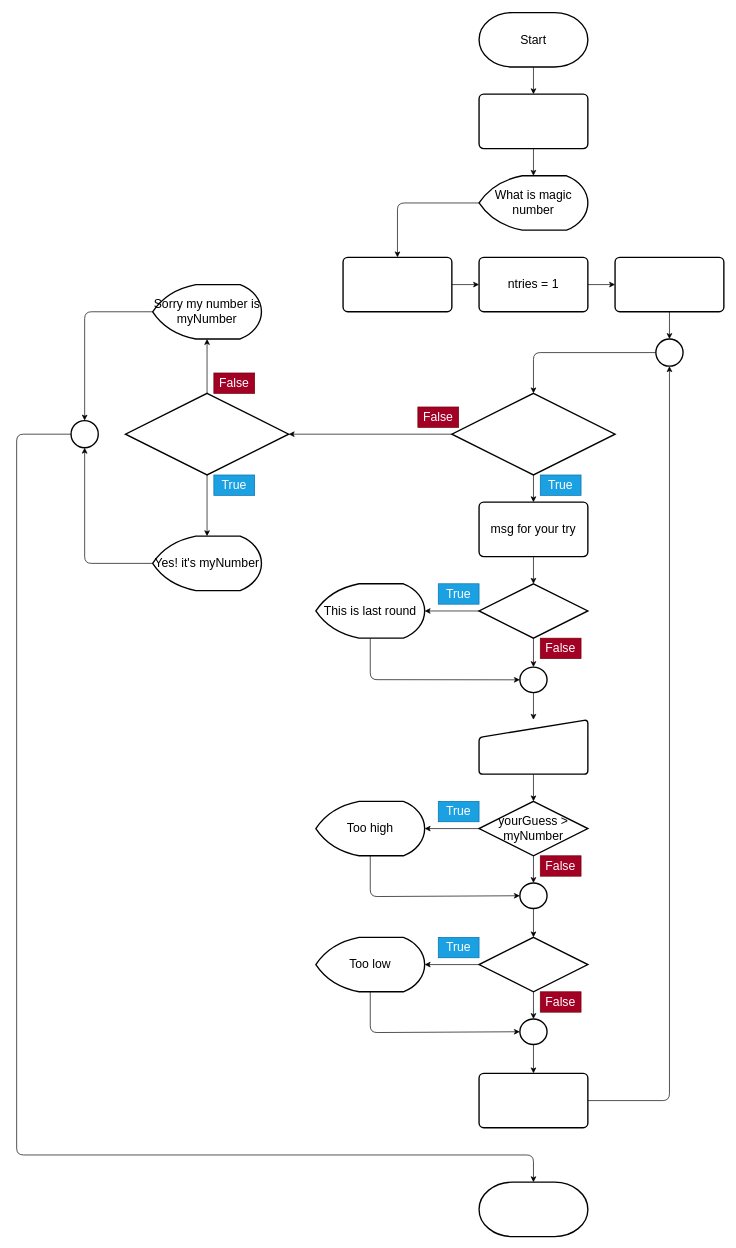
This 736x1248 diagram has some shape labels left out. The centre of each missing label's shape, as x and y in pixels:
"End" goes at point 533,1209.
"import random" goes at point 533,121.
"myNumber = random.randint (1, 100)" goes at point 397,284.
"ntries += 1" goes at point 533,1100.
"ntries < 7 and yourGuess != myNumber" goes at point 533,433.
"ntries == 6" goes at point 533,611.
"yourGuess" goes at point 533,747.
"yourGuess < myNumber" goes at point 533,964.
"yourGuess = -1" goes at point 669,284.
"yourGuess == myNumber" goes at point 206,433.
